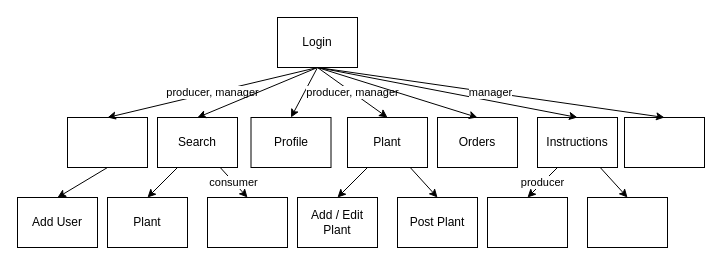
Image size: 722x265. Some labels were removed from this diagram. Here are the shapes that lost their labels. From the top down, the centre of each, then its label:
At point 107,142: "Users".
At point 664,142: "Stats".
At point 247,222: "Order".
At point 527,222: "Add / Edit Instruction".
At point 627,222: "Instruction Page".
